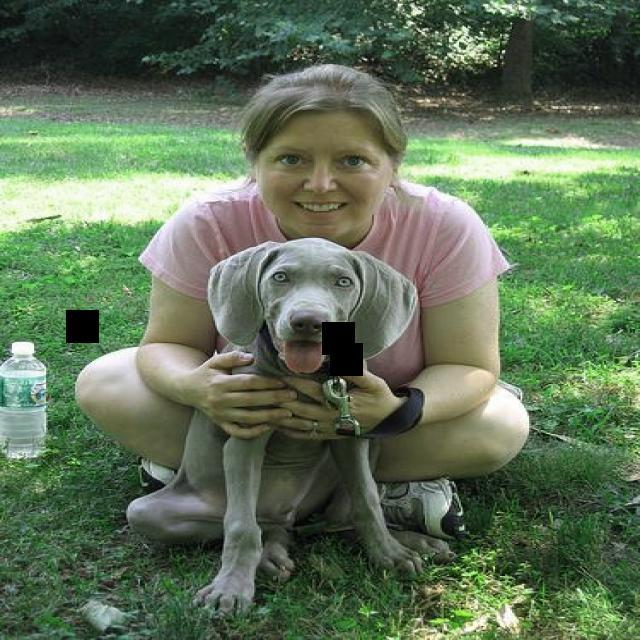non-dog: (72, 63, 533, 542)
puppy-dog: (120, 237, 451, 619)
